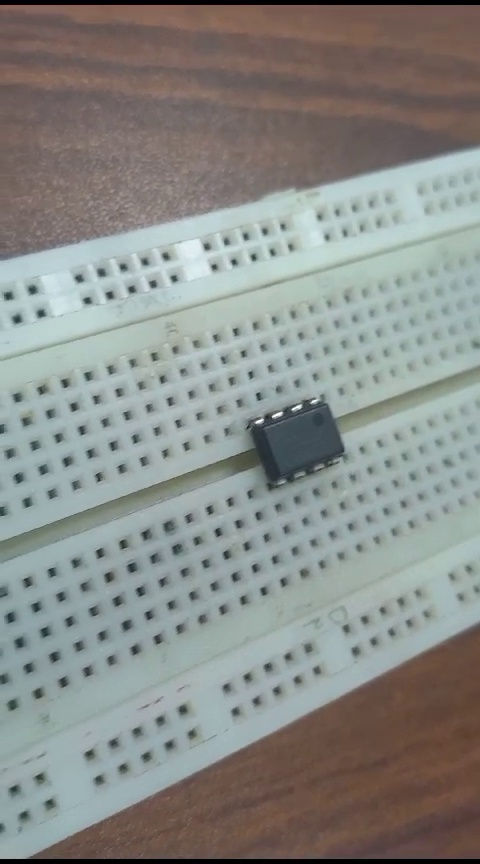IC: (244, 385, 358, 489)
